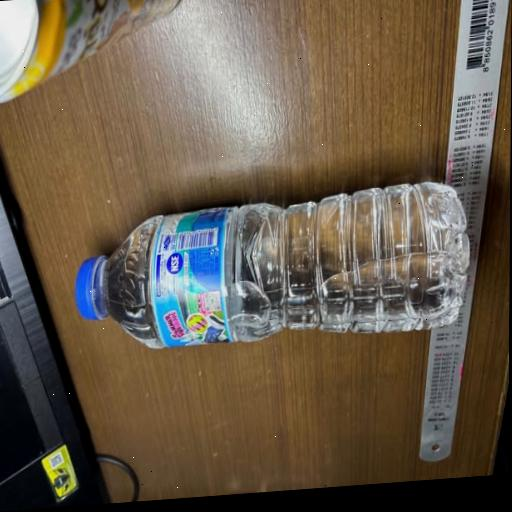ba: (24, 112, 486, 395)
